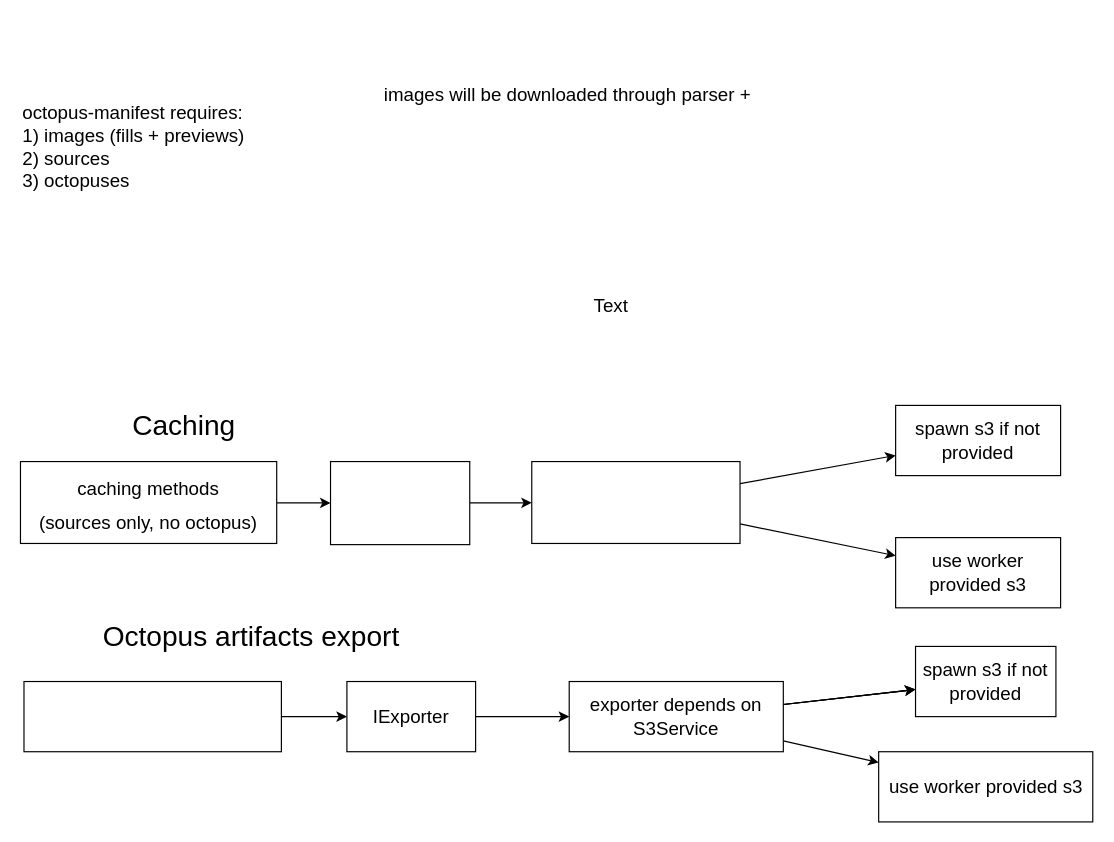
Some shapes in this 1114 by 842 pixel diagram are drawn without their labels. The shapes that lost their labels are listed below. From the top down, each one's box as (x1, y1, x2, y2) in pixels, then its label:
(329, 460, 470, 545): ICacher as argument
(531, 460, 740, 543): cacher depends on S3Service
(23, 680, 281, 752): exporter methods (octopus artifacts only)
